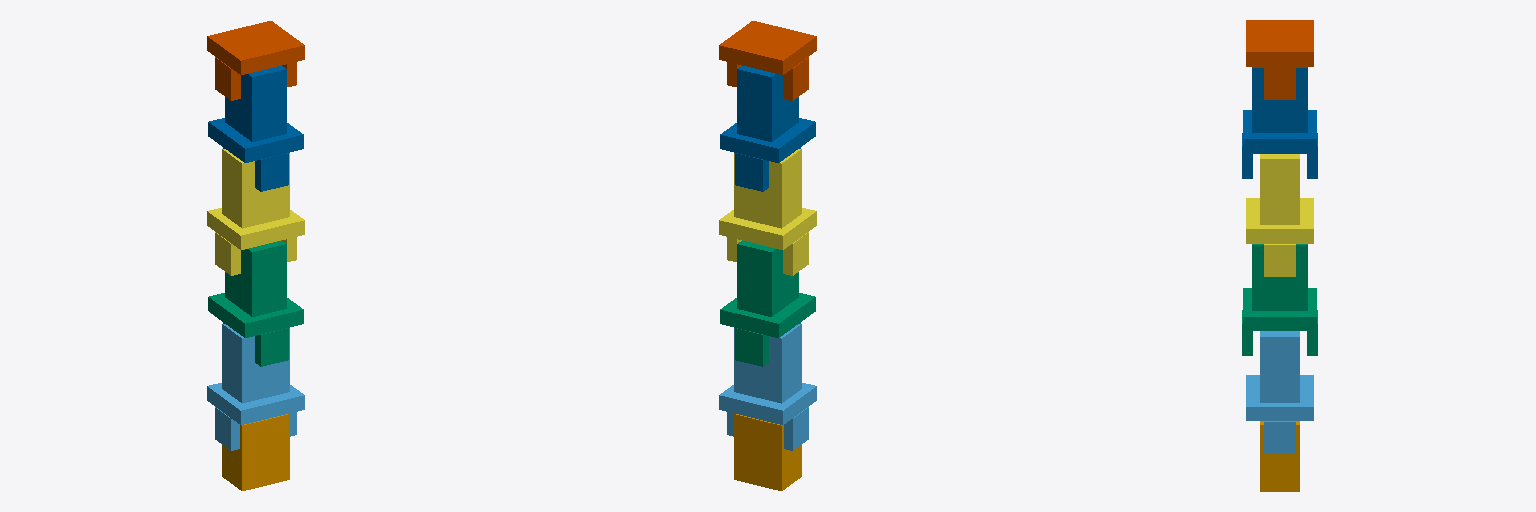
robot.urdf — Snake5R:
<?xml version="1.0" ?>
<!-- =================================================================================== -->
<!-- |    This document was autogenerated by xacro from snakesim/resource/snake_robot.xacro | -->
<!-- |    EDITING THIS FILE BY HAND IS NOT RECOMMENDED                                 | -->
<!-- =================================================================================== -->
<robot name="Snake5R">
  <link name="link0">
    <visual>
      <!--origin xyz="-0.0127 0 0.2" rpy="0 0 0"/-->
      <origin rpy="0 -1.5707 0" xyz="0 0 0"/>
      <geometry>
        <box size="0.0451 0.0247 0.034"/>
      </geometry>
    </visual>
  </link>
  <joint name="rotationalMotor1" type="continuous">
    <parent link="link0"/>
    <child link="link1"/>
    <axis xyz="0 0 1"/>
    <origin rpy="0 -1.5707 0" xyz="0 0 0.0127"/>
    <!--origin xyz="0 0 0.2" rpy="0 0 0"/-->
    <limit effort="10" lower="-2.0943" upper="2.0943" velocity="10"/>
  </joint>
  <link name="link1">
    <visual>
      <origin rpy="0 0 0" xyz="0.047 0 0"/>
      <geometry>
        <box size="0.0451 0.0247 0.034"/>
      </geometry>
    </visual>
    <visual>
      <origin rpy="0 0 0" xyz="0.02 0 0"/>
      <geometry>
        <box size="0.01 0.042 0.046"/>
      </geometry>
    </visual>
    <visual>
      <origin rpy="0 0 0" xyz="0.004 0 -0.02"/>
      <geometry>
        <box size="0.022 0.02 0.007"/>
      </geometry>
    </visual>
    <visual>
      <origin rpy="0 0 0" xyz="0.004 0 0.02"/>
      <geometry>
        <box size="0.022 0.02 0.007"/>
      </geometry>
    </visual>
  </link>
  <joint name="rotationalMotor2" type="continuous">
    <parent link="link1"/>
    <child link="link2"/>
    <axis xyz="0 0 1"/>
    <origin rpy="1.5707 0 0" xyz="0.06 0 0"/>
    <limit effort="10" lower="-2.0943" upper="2.0943" velocity="10"/>
  </joint>
  <link name="link2">
    <visual>
      <origin rpy="0 0 0" xyz="0.047 0 0"/>
      <geometry>
        <box size="0.0451 0.0247 0.034"/>
      </geometry>
    </visual>
    <visual>
      <origin rpy="0 0 0" xyz="0.02 0 0"/>
      <geometry>
        <box size="0.01 0.042 0.046"/>
      </geometry>
    </visual>
    <visual>
      <origin rpy="0 0 0" xyz="0.004 0 -0.02"/>
      <geometry>
        <box size="0.022 0.02 0.007"/>
      </geometry>
    </visual>
    <visual>
      <origin rpy="0 0 0" xyz="0.004 0 0.02"/>
      <geometry>
        <box size="0.022 0.02 0.007"/>
      </geometry>
    </visual>
  </link>
  <joint name="rotationalMotor3" type="continuous">
    <parent link="link2"/>
    <child link="link3"/>
    <axis xyz="0 0 1"/>
    <origin rpy="-1.5707 0 0" xyz="0.06 0 0"/>
    <limit effort="10" lower="-2.0943" upper="2.0943" velocity="10"/>
  </joint>
  <link name="link3">
    <visual>
      <origin rpy="0 0 0" xyz="0.047 0 0"/>
      <geometry>
        <box size="0.0451 0.0247 0.034"/>
      </geometry>
    </visual>
    <visual>
      <origin rpy="0 0 0" xyz="0.02 0 0"/>
      <geometry>
        <box size="0.01 0.042 0.046"/>
      </geometry>
    </visual>
    <visual>
      <origin rpy="0 0 0" xyz="0.004 0 -0.02"/>
      <geometry>
        <box size="0.022 0.02 0.007"/>
      </geometry>
    </visual>
    <visual>
      <origin rpy="0 0 0" xyz="0.004 0 0.02"/>
      <geometry>
        <box size="0.022 0.02 0.007"/>
      </geometry>
    </visual>
  </link>
  <joint name="rotationalMotor4" type="continuous">
    <parent link="link3"/>
    <child link="link4"/>
    <axis xyz="0 0 1"/>
    <origin rpy="1.5707 0 0" xyz="0.06 0 0"/>
    <limit effort="10" lower="-2.0943" upper="2.0943" velocity="10"/>
  </joint>
  <link name="link4">
    <visual>
      <origin rpy="0 0 0" xyz="0.047 0 0"/>
      <geometry>
        <box size="0.0451 0.0247 0.034"/>
      </geometry>
    </visual>
    <visual>
      <origin rpy="0 0 0" xyz="0.02 0 0"/>
      <geometry>
        <box size="0.01 0.042 0.046"/>
      </geometry>
    </visual>
    <visual>
      <origin rpy="0 0 0" xyz="0.004 0 -0.02"/>
      <geometry>
        <box size="0.022 0.02 0.007"/>
      </geometry>
    </visual>
    <visual>
      <origin rpy="0 0 0" xyz="0.004 0 0.02"/>
      <geometry>
        <box size="0.022 0.02 0.007"/>
      </geometry>
    </visual>
  </link>
  <joint name="rotationalMotor5" type="continuous">
    <parent link="link4"/>
    <child link="link5"/>
    <axis xyz="0 0 1"/>
    <origin rpy="-1.5707 0 0" xyz="0.06 0 0"/>
    <limit effort="10" lower="-2.0943" upper="2.0943" velocity="10"/>
  </joint>
  <link name="link5">
    <visual>
      <origin rpy="0 0 0" xyz="0.02 0 0"/>
      <geometry>
        <box size="0.01 0.042 0.046"/>
      </geometry>
    </visual>
    <visual>
      <origin rpy="0 0 0" xyz="0.004 0 -0.02"/>
      <geometry>
        <box size="0.022 0.02 0.007"/>
      </geometry>
    </visual>
    <visual>
      <origin rpy="0 0 0" xyz="0.004 0 0.02"/>
      <geometry>
        <box size="0.022 0.02 0.007"/>
      </geometry>
    </visual>
  </link>
  <joint name="endEffFrame" type="fixed">
    <parent link="link5"/>
    <child link="endEffector"/>
    <axis xyz="0 0 1"/>
    <origin rpy="0 0 0" xyz="0.02 0 0"/>
  </joint>
  <link name="endEffector"/>
</robot>

--- Facts derived from the render (not from the file) ---
The picture shows the robot from 3 angles, left to right: view 1: azimuth 30°, elevation 25°; view 2: azimuth 150°, elevation 25°; view 3: azimuth 270°, elevation 25°; orthographic projection.
Model Snake5R with 7 links and 6 joints (5 continuous, 1 fixed), rooted at link0, posed all joints at 0.
Links seen in each view (by area): view 1: link2, link4, link3, link1, link5, link0; view 2: link2, link4, link3, link1, link5, link0; view 3: link1, link3, link4, link2, link5, link0.
Link boxes in pixels (left/top/right/bottom): link2: left=208, top=240, right=303, bottom=366; link4: left=208, top=66, right=303, bottom=191; link3: left=207, top=149, right=304, bottom=275; link1: left=207, top=324, right=304, bottom=450; link5: left=207, top=21, right=304, bottom=100; link0: left=222, top=414, right=289, bottom=490; link2: left=720, top=240, right=815, bottom=366; link4: left=720, top=66, right=815, bottom=191; link3: left=719, top=149, right=816, bottom=275; link1: left=719, top=324, right=816, bottom=450; link5: left=719, top=21, right=816, bottom=100; link0: left=734, top=414, right=801, bottom=490; link1: left=1246, top=331, right=1313, bottom=453; link3: left=1246, top=154, right=1313, bottom=276; link4: left=1242, top=67, right=1317, bottom=178; link2: left=1242, top=244, right=1317, bottom=355; link5: left=1246, top=20, right=1313, bottom=99; link0: left=1260, top=421, right=1299, bottom=491.
Bounding box of the posed robot: 0.047 × 0.047 × 0.3003 m (x, y, z).
Geometry: primitives only (box / cylinder / sphere), no mesh files.